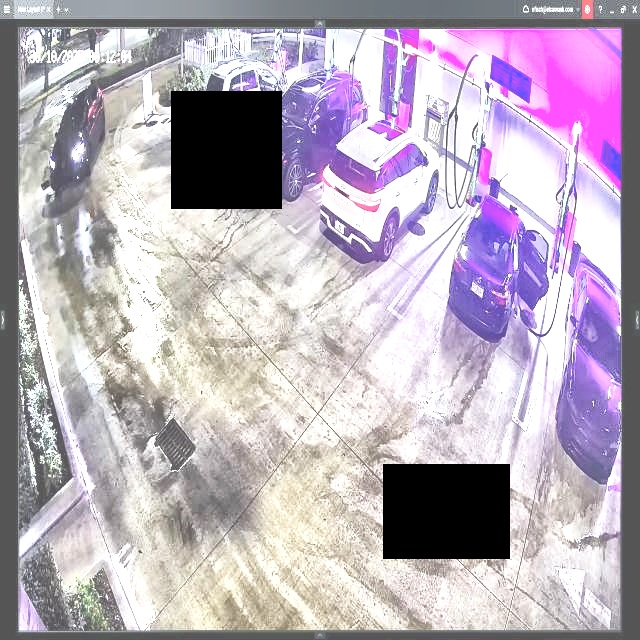Car: (246, 70, 365, 201), (324, 118, 437, 253), (451, 190, 547, 339)
